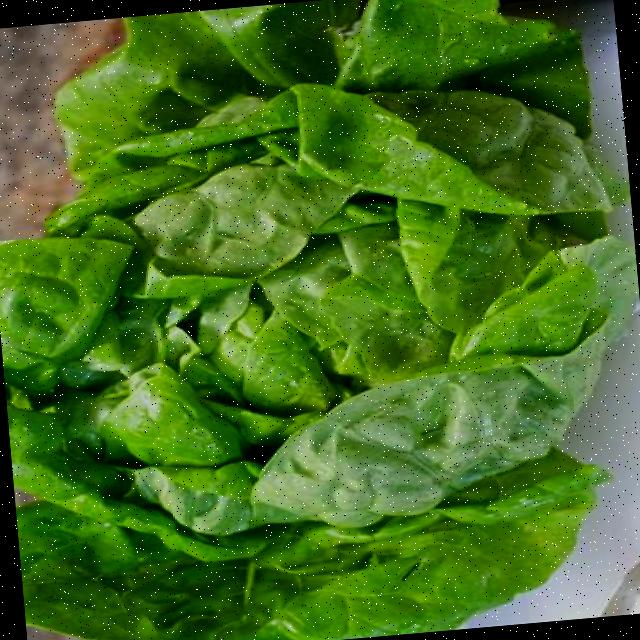healthy: (2, 33, 627, 640)
